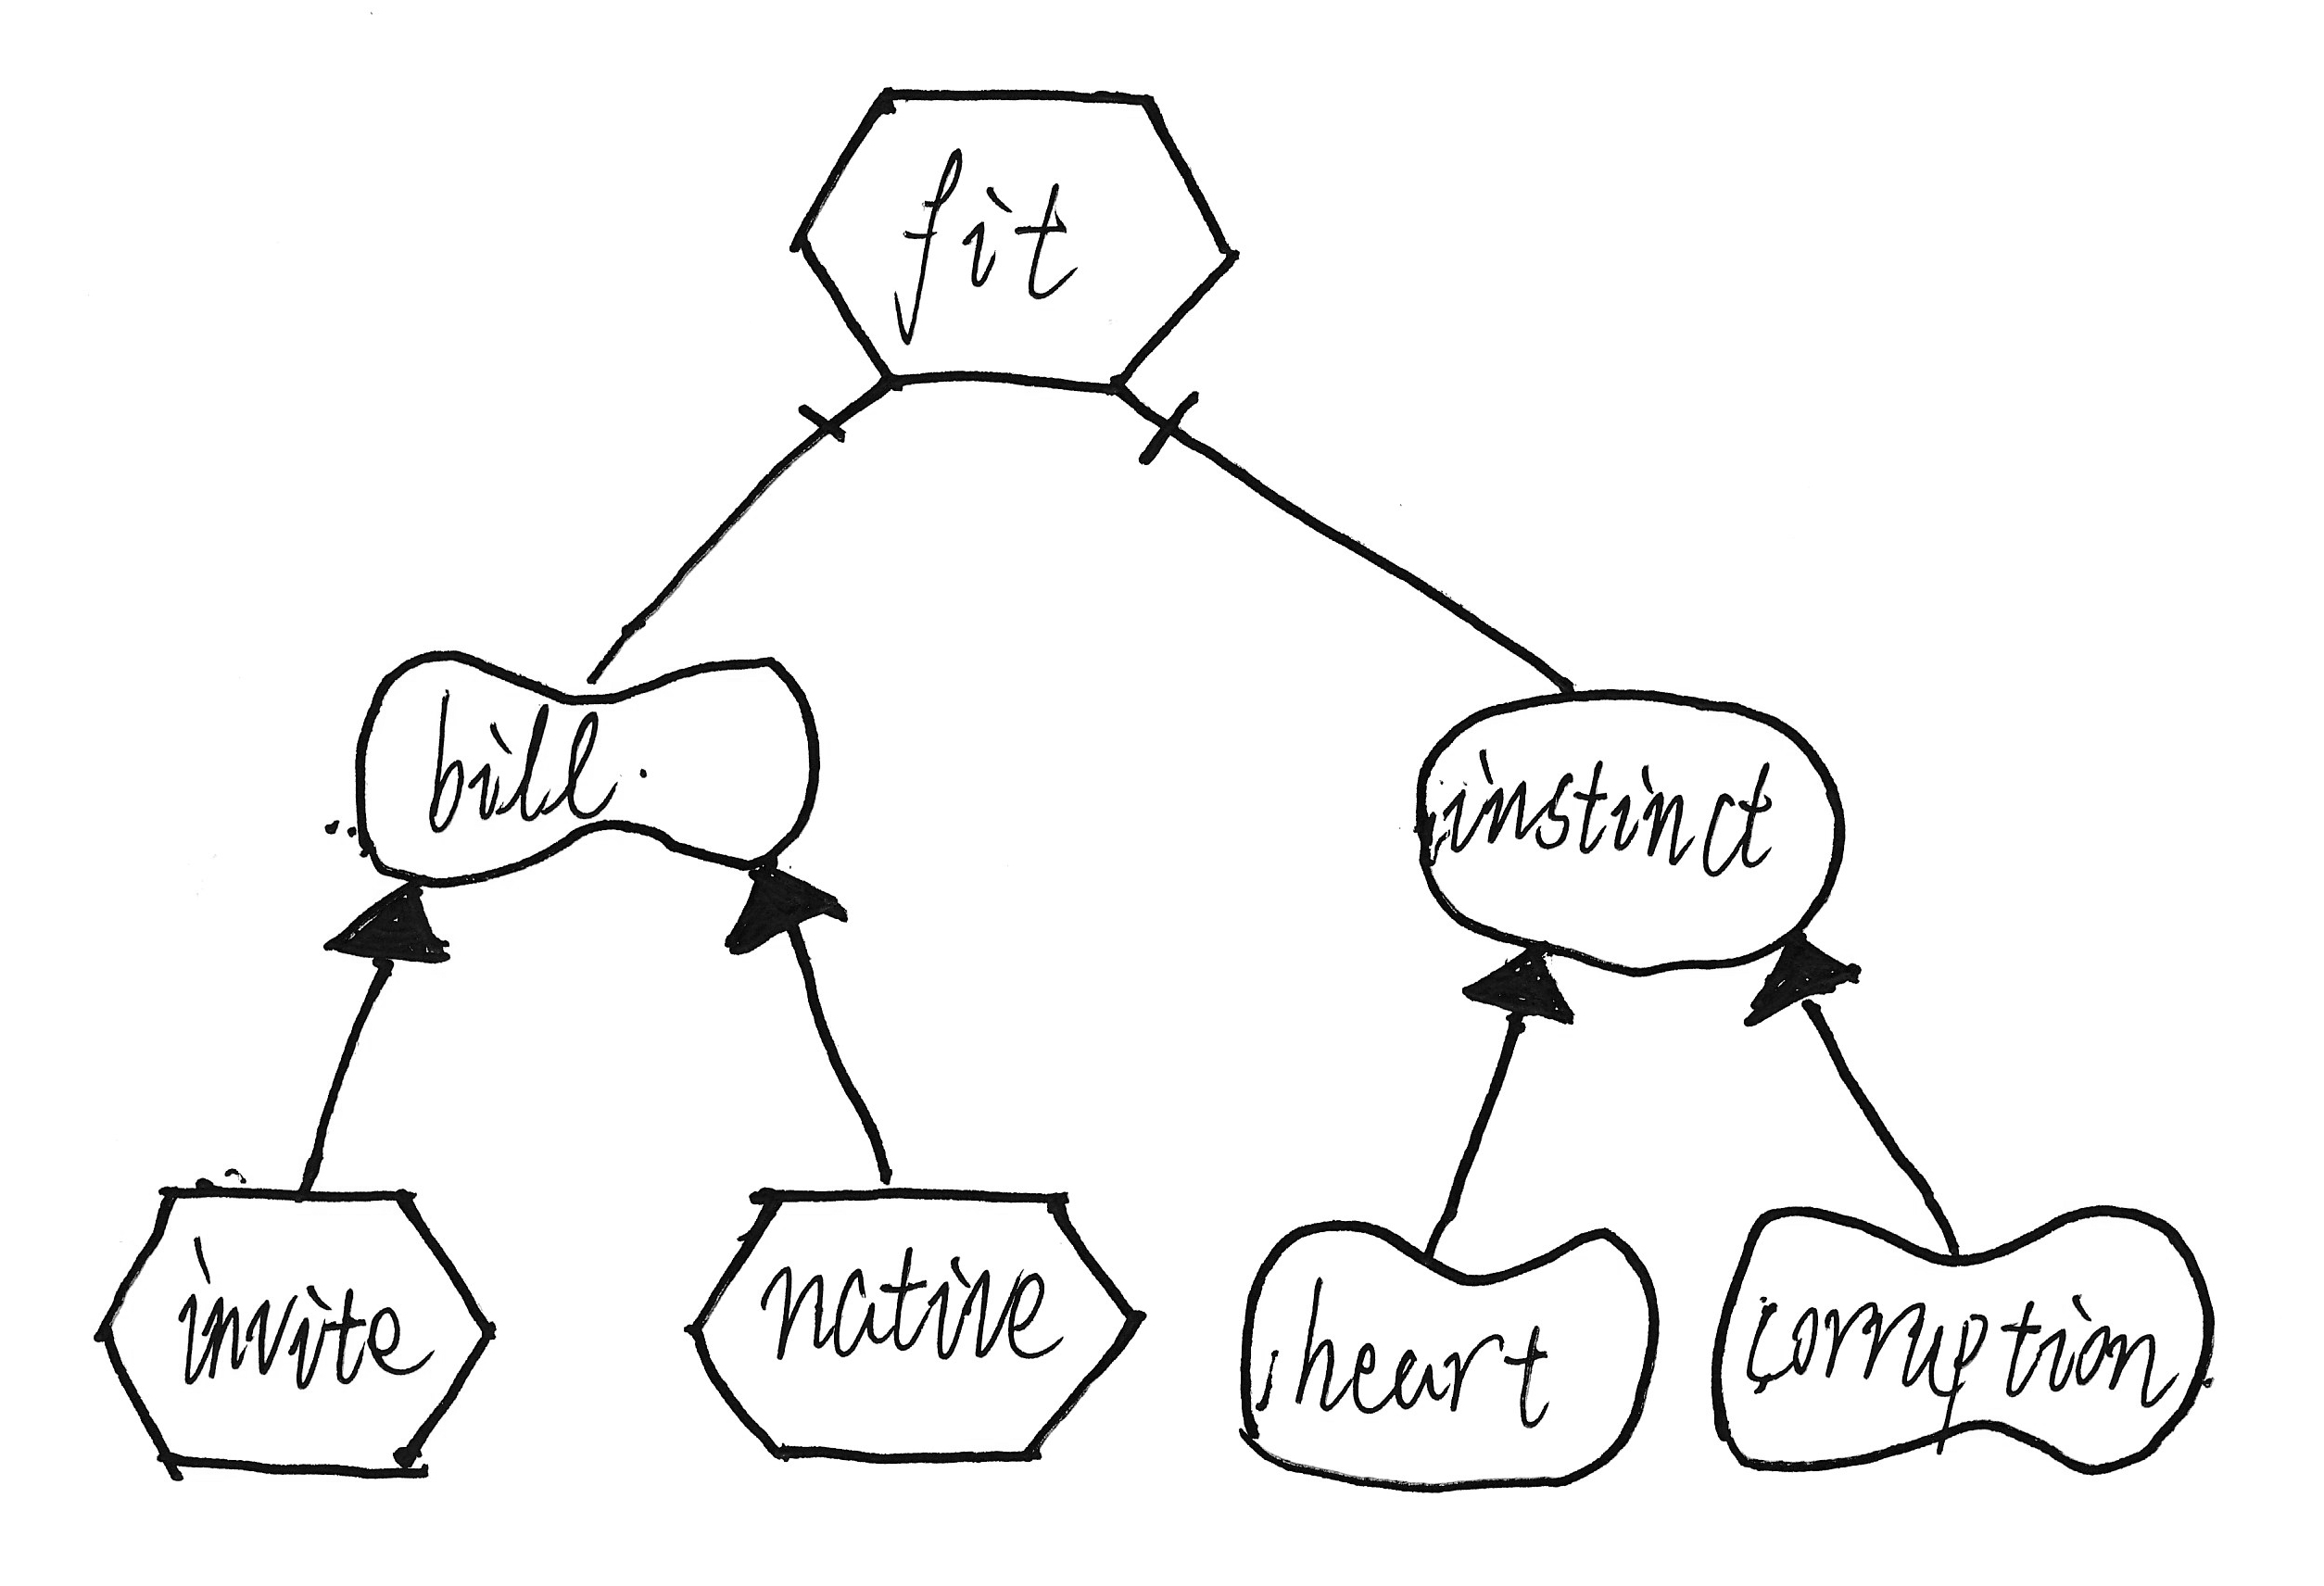and: (777, 376, 881, 463), (1125, 387, 1220, 475)
goal: (1397, 676, 1854, 987)
or: (311, 872, 470, 984), (710, 851, 856, 971), (1736, 931, 1884, 1044), (1448, 936, 1586, 1047)
quality: (1697, 1187, 2241, 1485), (1224, 1205, 1672, 1505), (332, 634, 841, 897)
task: (775, 55, 1249, 406), (668, 1162, 1157, 1496), (78, 1162, 521, 1519)
